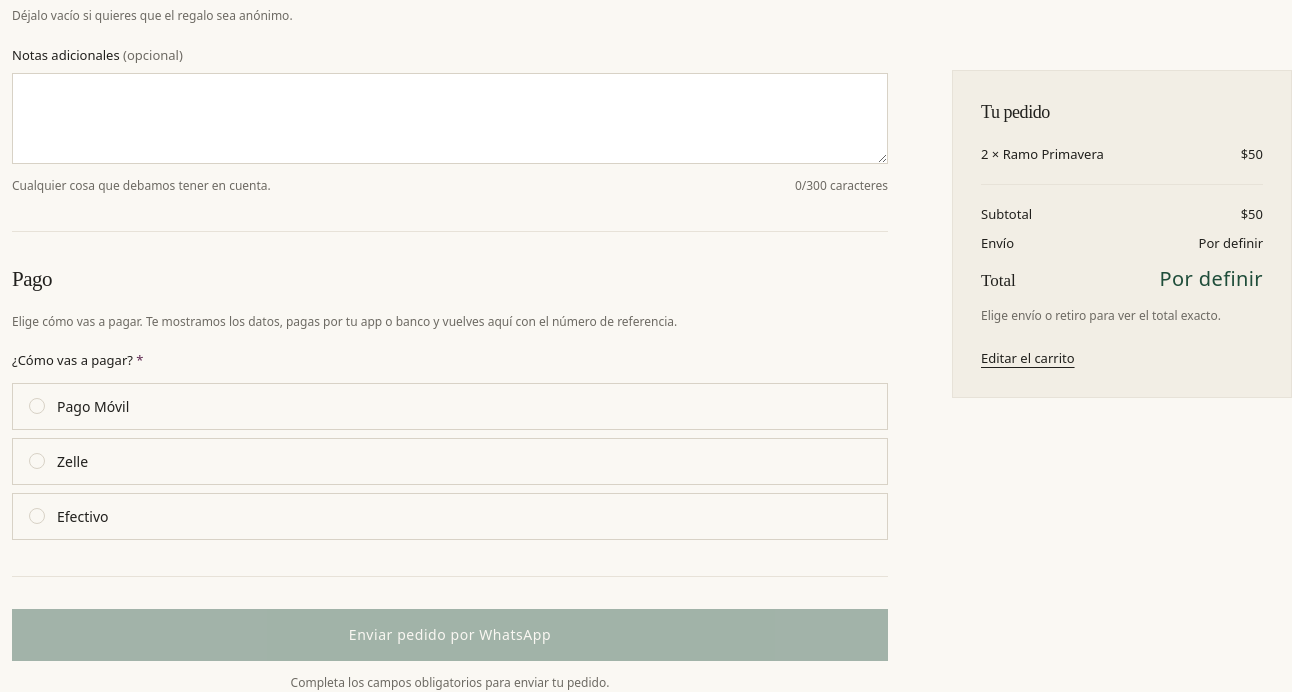
the checkout island › asks for a reference on a transfer and for change on cash
(page scrolled)
Click the radio button named "Pago Móvil" next to "Pago Móvil".
click(37, 406)  # box [29,398,45,414]
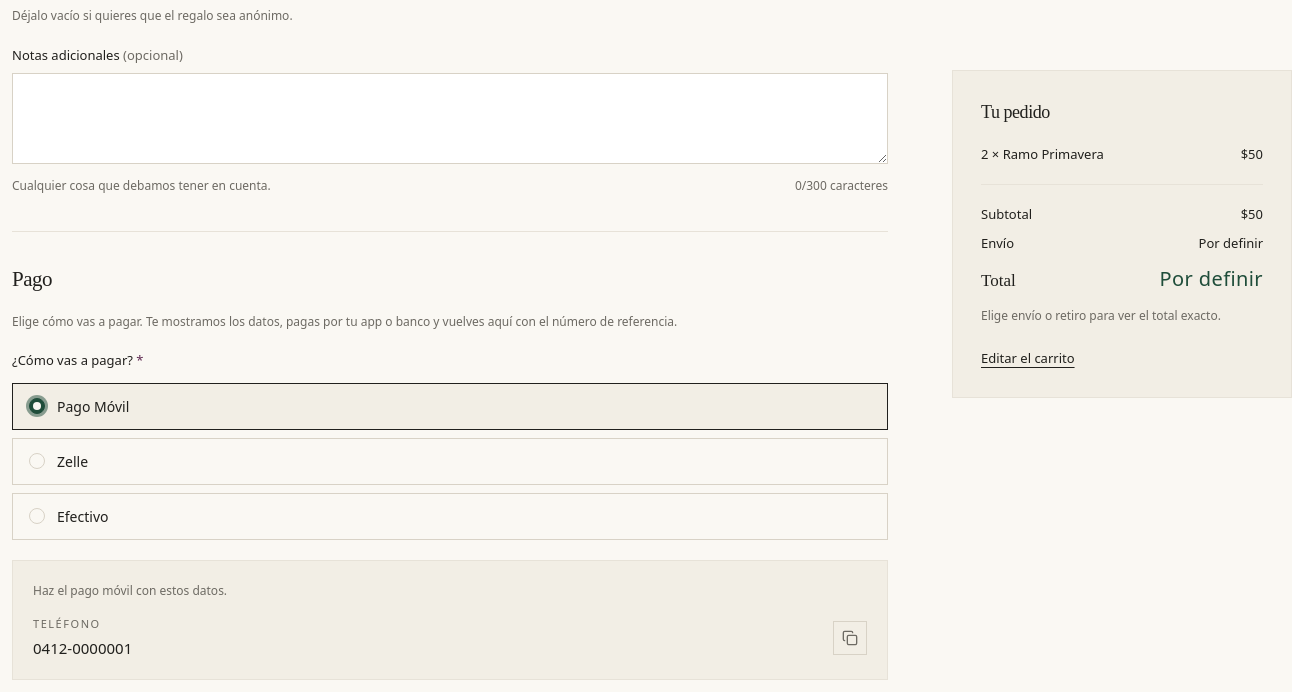
Check: the text "¿Necesitas vuelto?" is not shown
Click the radio button named "Efectivo" next to "Efectivo".
click(37, 516)  # box [29,508,45,524]
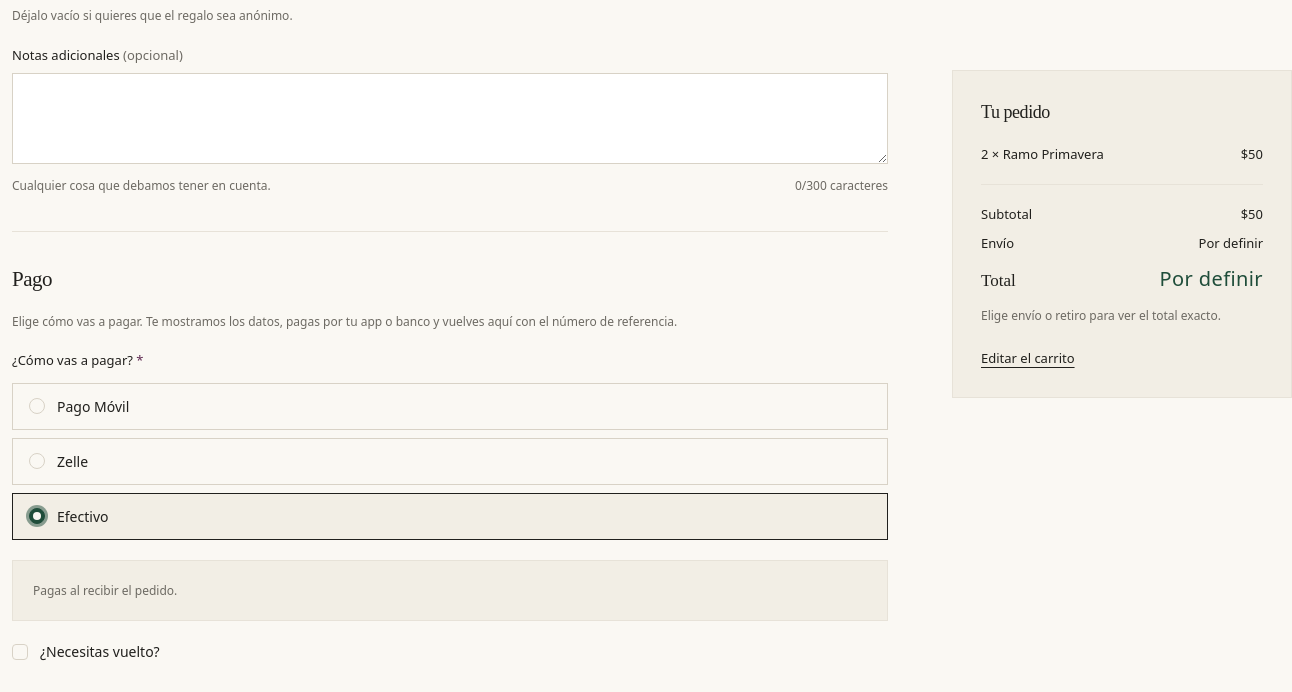
Check: the checkbox "¿Necesitas vuelto?" is shown, box [12,642,160,661]
